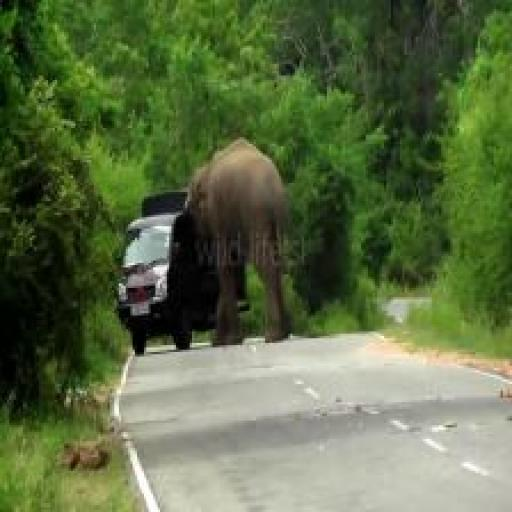Elephant: (180, 144, 292, 342)
